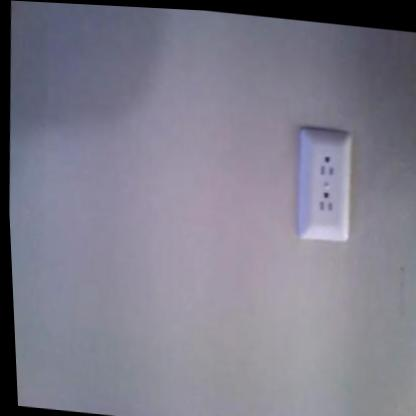OUTLET: (293, 124, 356, 244)
